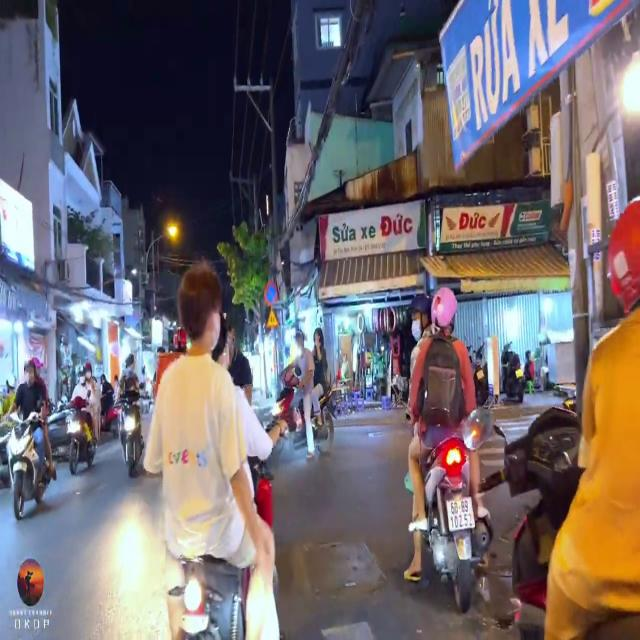bien_trang: (445, 494, 475, 536)
